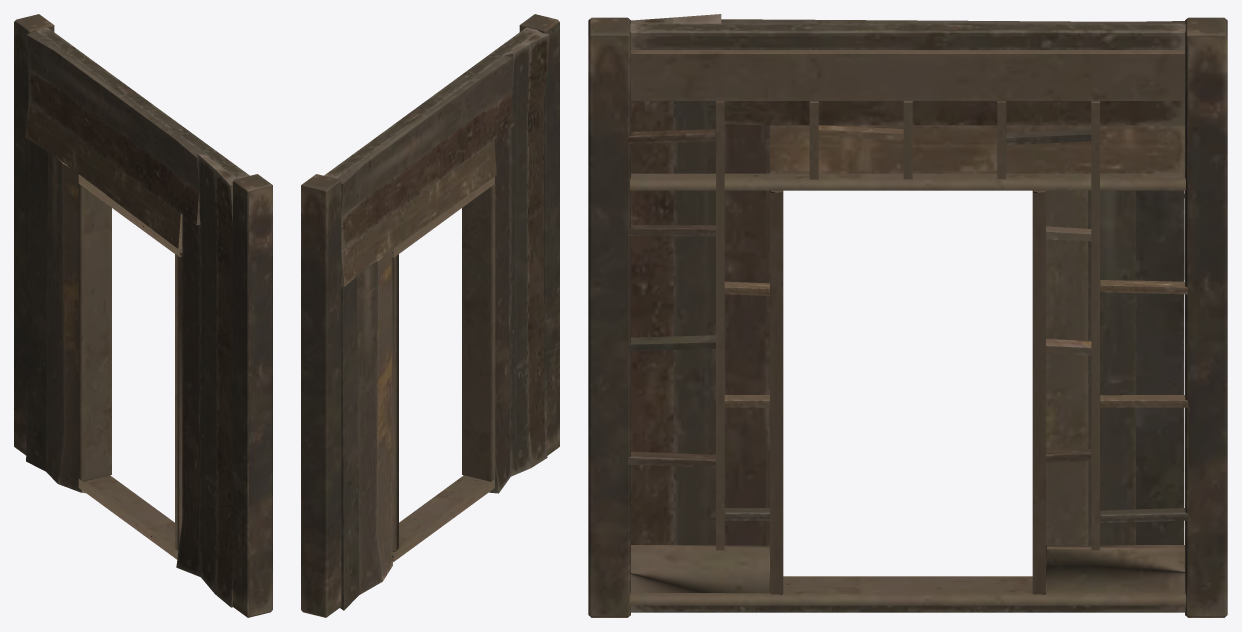
Rendered from wall.doorway.frontier_variant_c.glb.
The picture shows the model from 3 angles, left to right: view 1: azimuth 30°, elevation 25°; view 2: azimuth 150°, elevation 25°; view 3: azimuth 270°, elevation 25°; orthographic projection. The views are drawn at different scales.
Visible parts, largest first — view 1: wall.doorway_c_LOD0; view 2: wall.doorway_c_LOD0; view 3: wall.doorway_c_LOD0.
Part boxes in pixels (x1,y1,x2,y2): wall.doorway_c_LOD0: (14, 14, 272, 617); wall.doorway_c_LOD0: (301, 14, 559, 617); wall.doorway_c_LOD0: (588, 14, 1227, 617).
Bounding box in the file's own units: 0.2458 × 3.05 × 3.
Materials: 1 (1 with a texture image).
